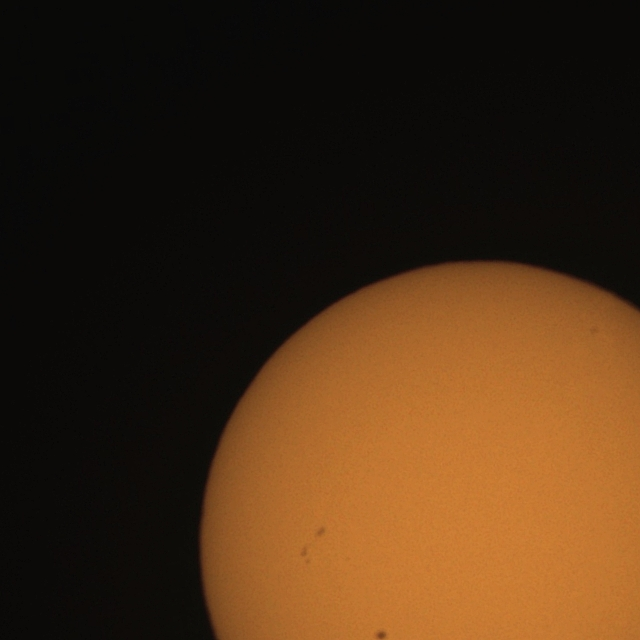sunspot: (299, 546, 311, 564), (372, 628, 389, 640)
